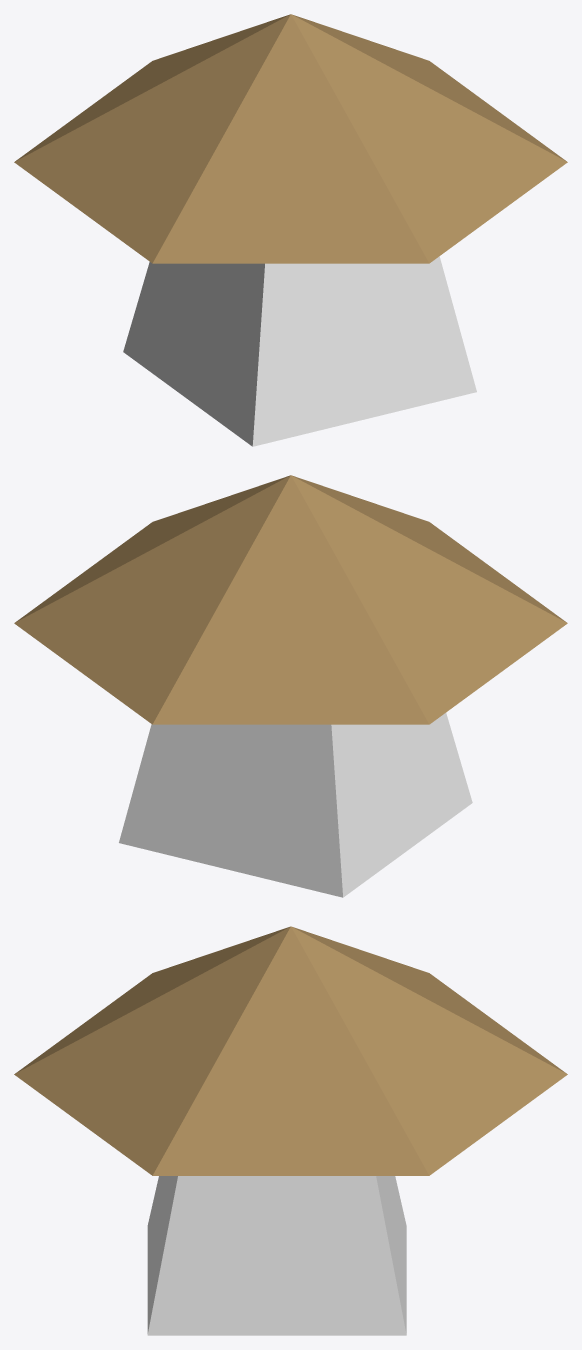
The model's file is naturePack_112.fbx.
The picture shows the model from 3 angles, top to bottom: view 1: azimuth 30°, elevation 25°; view 2: azimuth 150°, elevation 25°; view 3: azimuth 270°, elevation 25°; orthographic projection.
Parts seen in each view (by area): view 1: Mesh1_Mushroom_Brown Model; view 2: Mesh1_Mushroom_Brown Model; view 3: Mesh1_Mushroom_Brown Model.
Boxes of the visible parts, x1=… form: Mesh1_Mushroom_Brown Model: x1=14, y1=14, x2=567, y2=446; Mesh1_Mushroom_Brown Model: x1=14, y1=475, x2=567, y2=897; Mesh1_Mushroom_Brown Model: x1=14, y1=926, x2=567, y2=1335.
Bounding box in the file's own units: 0.4349 × 0.3535 × 0.5022.
